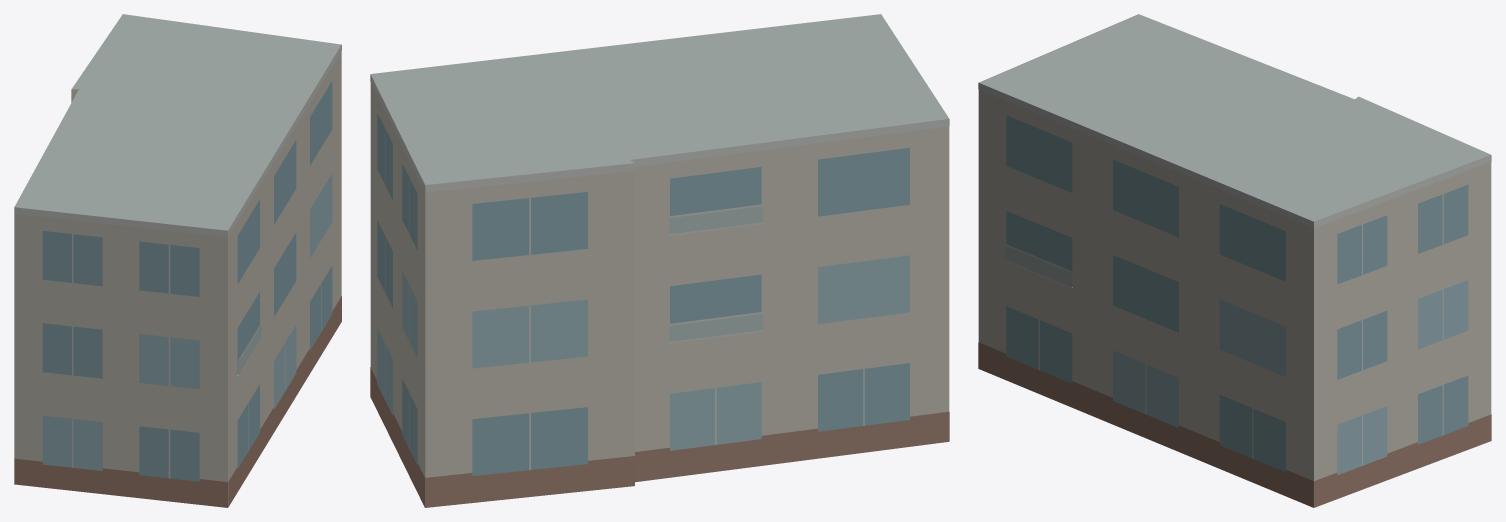
File: survey-upis-32676112.glb
3 renders of one model, left to right at view 1: azimuth 30°, elevation 25°; view 2: azimuth 150°, elevation 25°; view 3: azimuth 270°, elevation 25°, orthographic. The views are drawn at different scales.
Visible parts, largest first — view 1: survey-upis-32676112.tmp; view 2: survey-upis-32676112.tmp; view 3: survey-upis-32676112.tmp.
Boxes of the visible parts, x1,y1,x2,y2 form: survey-upis-32676112.tmp: (14,14,341,507); survey-upis-32676112.tmp: (370,14,949,507); survey-upis-32676112.tmp: (978,14,1491,507).
Size of the model in its own units: 16.12 by 10.35 by 16.82.
